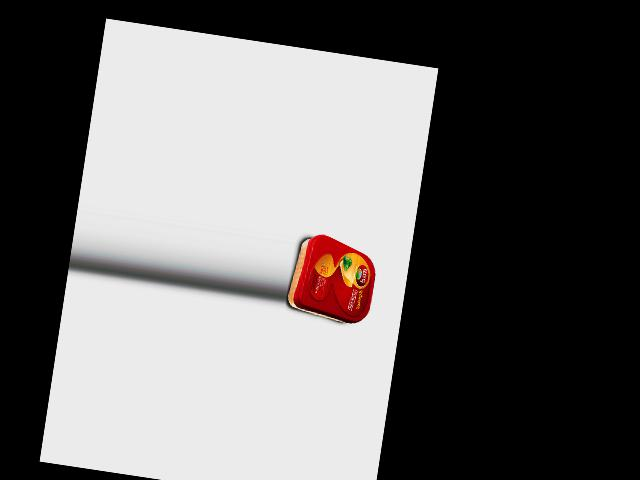cheese: (285, 230, 380, 326)
